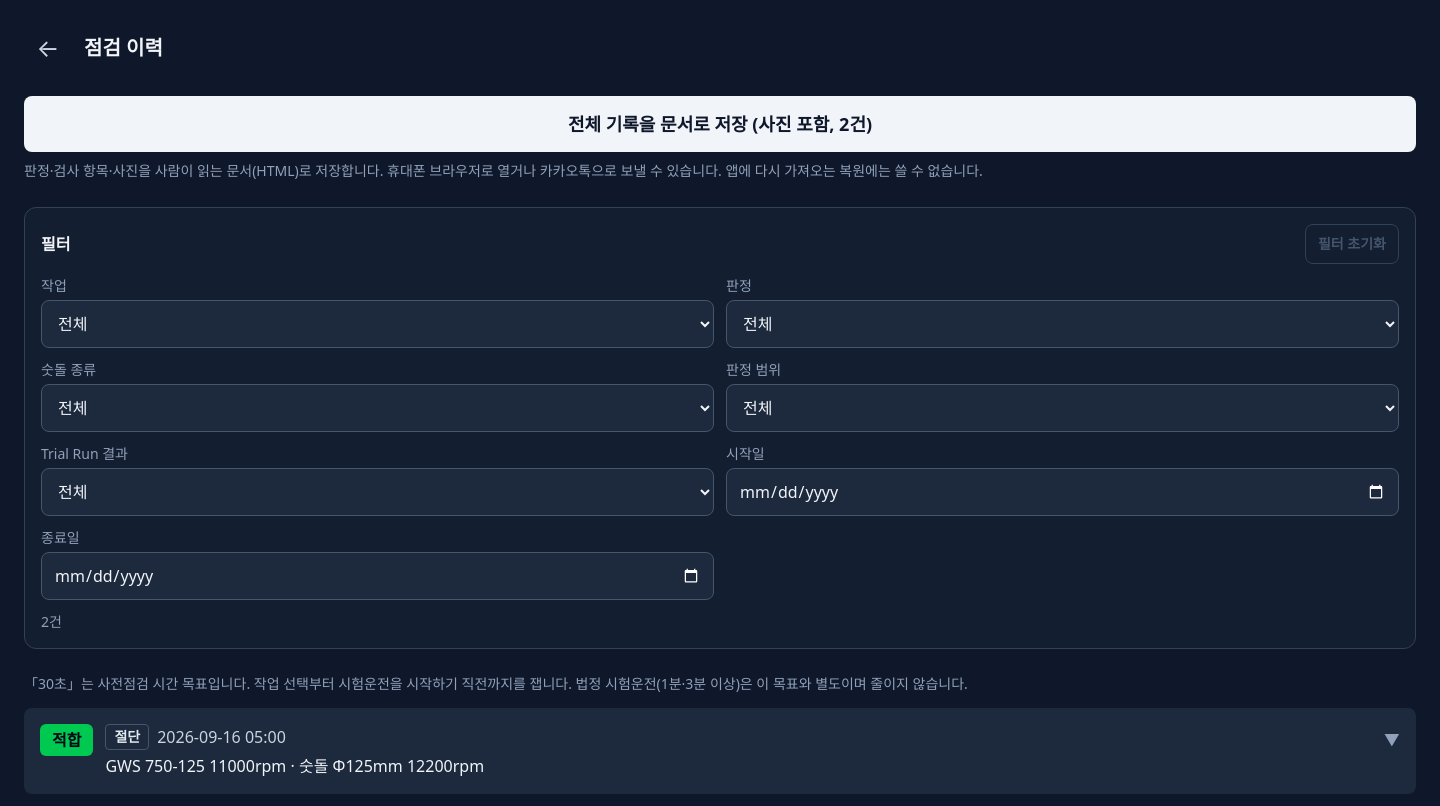
Test: 이력 화면 — 필터 › 판정 범위(full/limited)로 걸러도 조건에 맞는 기록만 남는다
Select "제한적" in the dropdown labelled "판정 범위": (1062, 408) [726,384,1399,432]
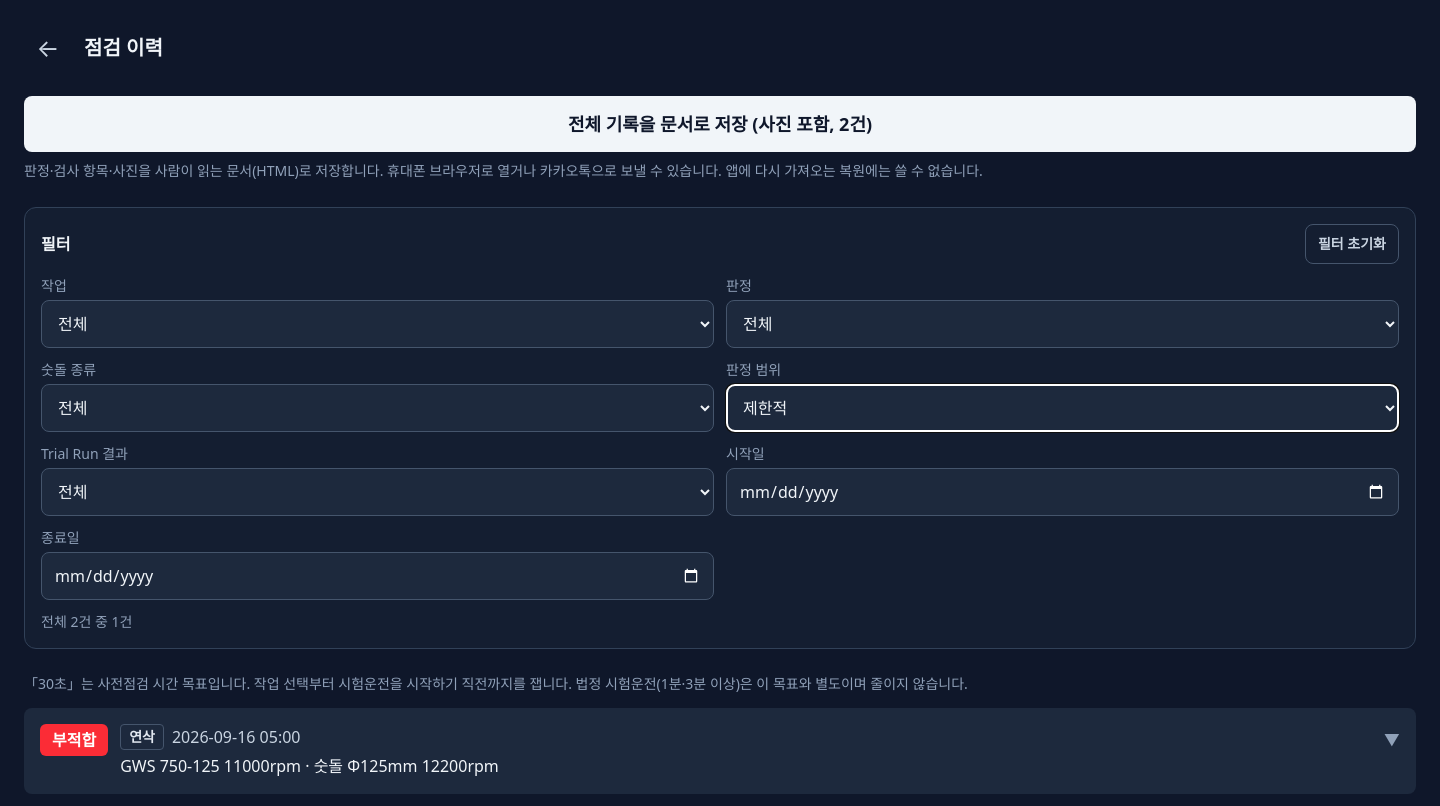
Expected: the text "연삭" is shown, [120,724,164,750]
Expected: the number of list items is 1, [24,708,1416,794]
Expected: the button "절단" is gone
